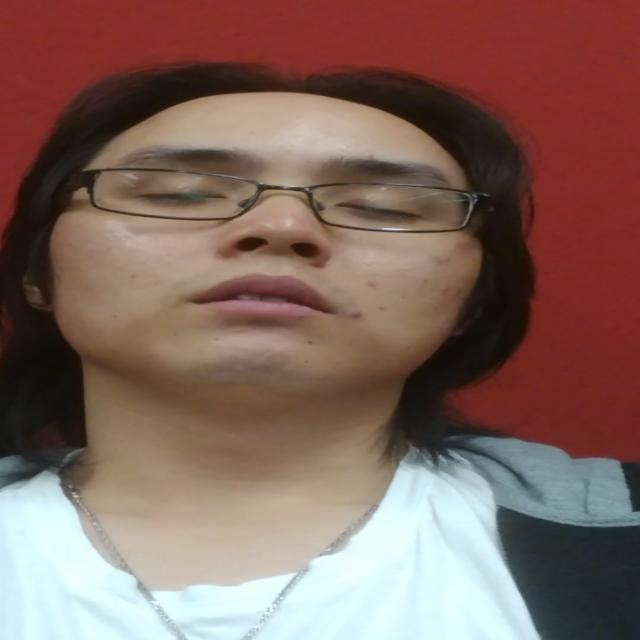Eyeclosed: (341, 194, 427, 228), (139, 183, 230, 211)
